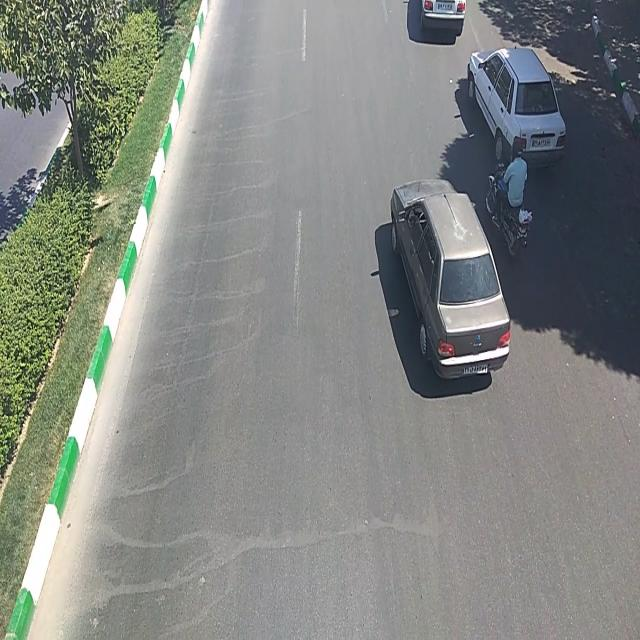car: (390, 180, 511, 382), (468, 47, 568, 173), (416, 0, 468, 44)
motor: (486, 142, 530, 254)
